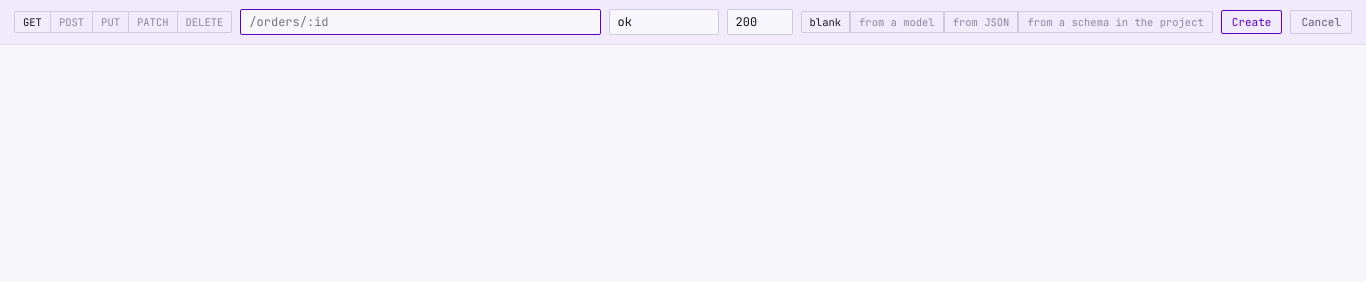
Test: the example models › offers the three models only in the model flow
expect the button "simple" is not shown: met
In the field named "path": (420, 22) [240, 9, 600, 35], type "/orders"
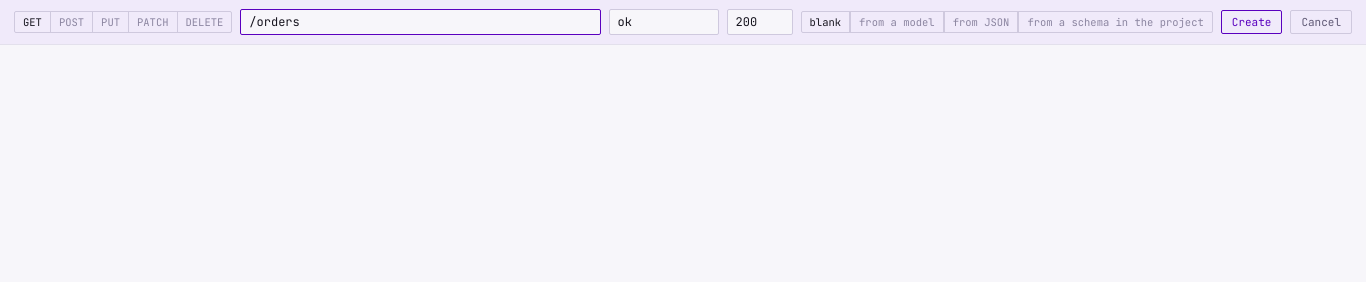
Click the button "from a model": (897, 22) [850, 12, 944, 32]
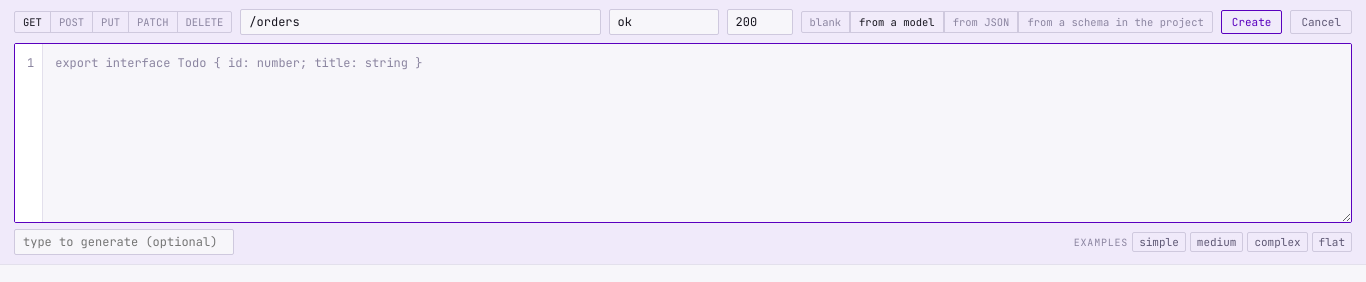
expect the button "simple" is shown: met, box [1132, 232, 1186, 252]
expect the button "medium" is shown: met, box [1190, 232, 1243, 252]
expect the button "complex" is shown: met, box [1247, 232, 1308, 252]
